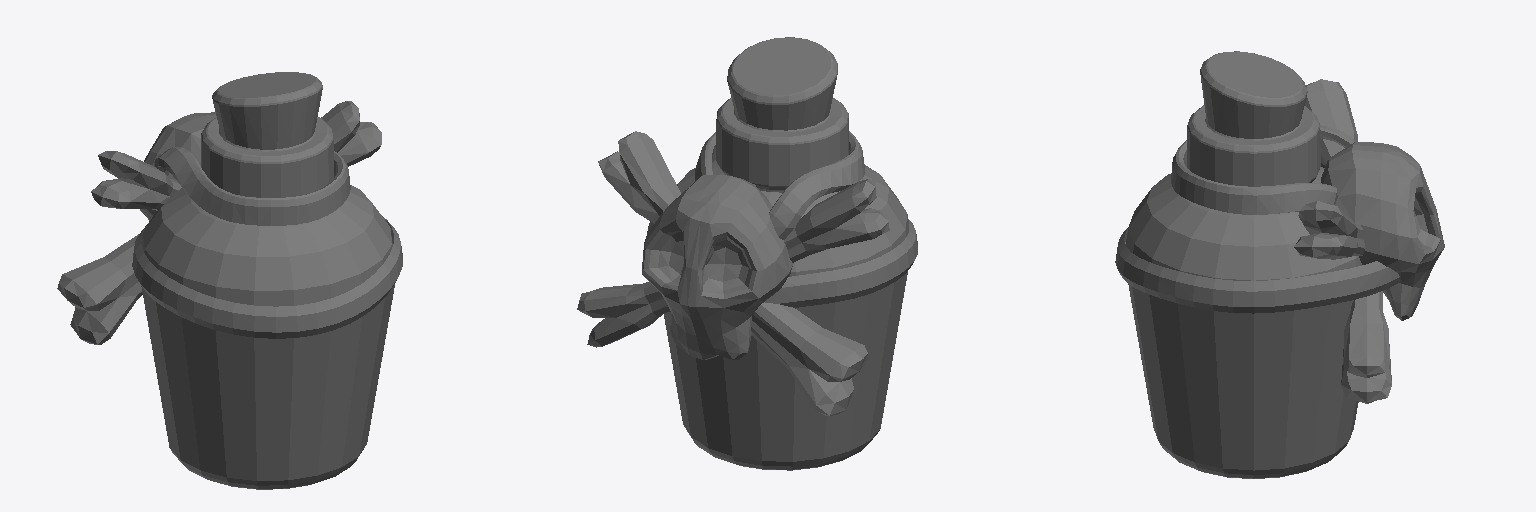
Rendered from potion.obj.
3 views of the same model, side by side, from view 1: azimuth 30°, elevation 25°; view 2: azimuth 150°, elevation 25°; view 3: azimuth 270°, elevation 25° (orthographic).
Parts seen in each view (by area): view 1: potion; view 2: potion; view 3: potion.
Part boxes in pixels (x1,y1,x2,y2): potion: (57,72,402,489); potion: (577,37,917,470); potion: (1115,51,1444,478).
Bounding box in the file's own units: 1.72 × 2.18 × 1.71.